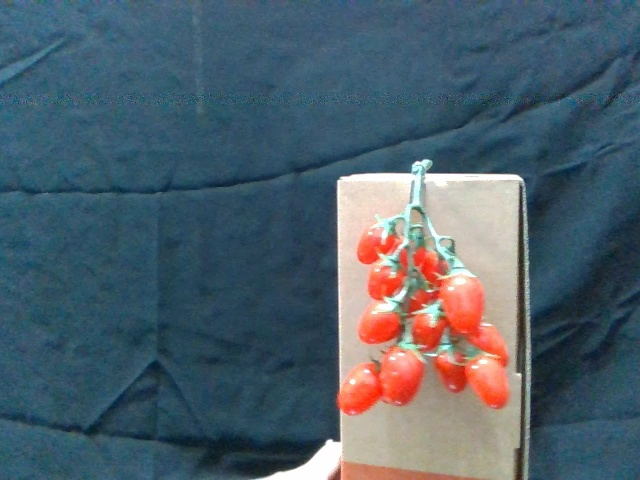tomato: (438, 267, 485, 336), (333, 361, 384, 413), (383, 345, 427, 404), (468, 354, 511, 409), (358, 297, 407, 344), (468, 320, 512, 369), (357, 214, 397, 265), (432, 344, 471, 396), (369, 251, 406, 299), (414, 304, 448, 350)
